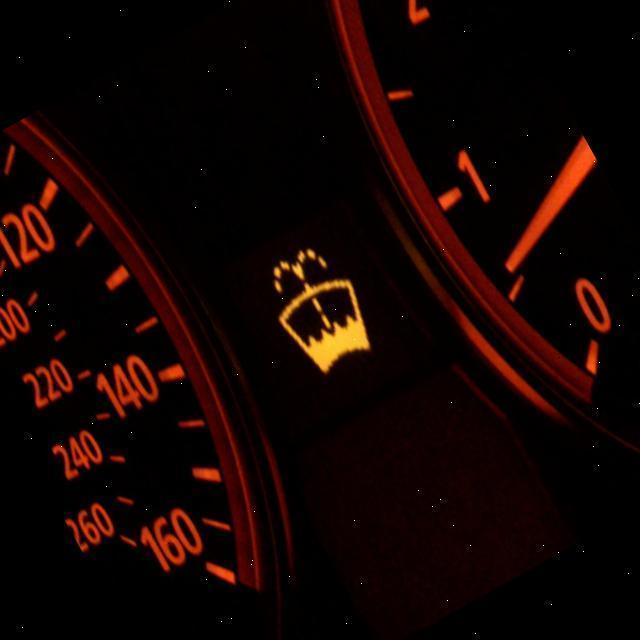Washer Fluid: (274, 249, 372, 375)
